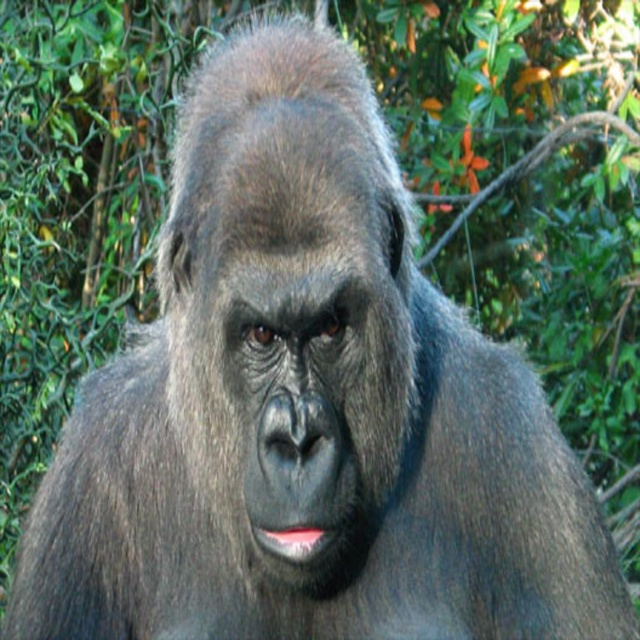Monkey: (1, 0, 629, 621)
